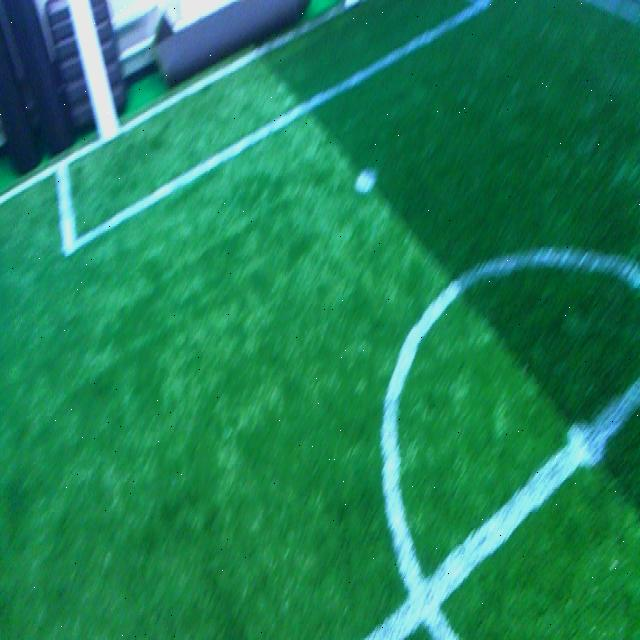goalpost: (68, 0, 123, 148)
